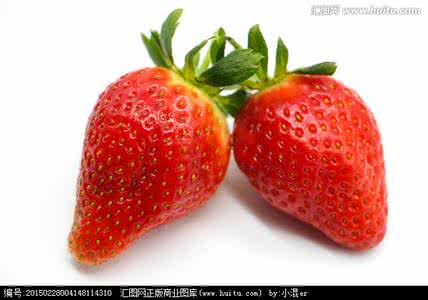strawberry: (57, 6, 239, 270), (222, 25, 399, 254)
